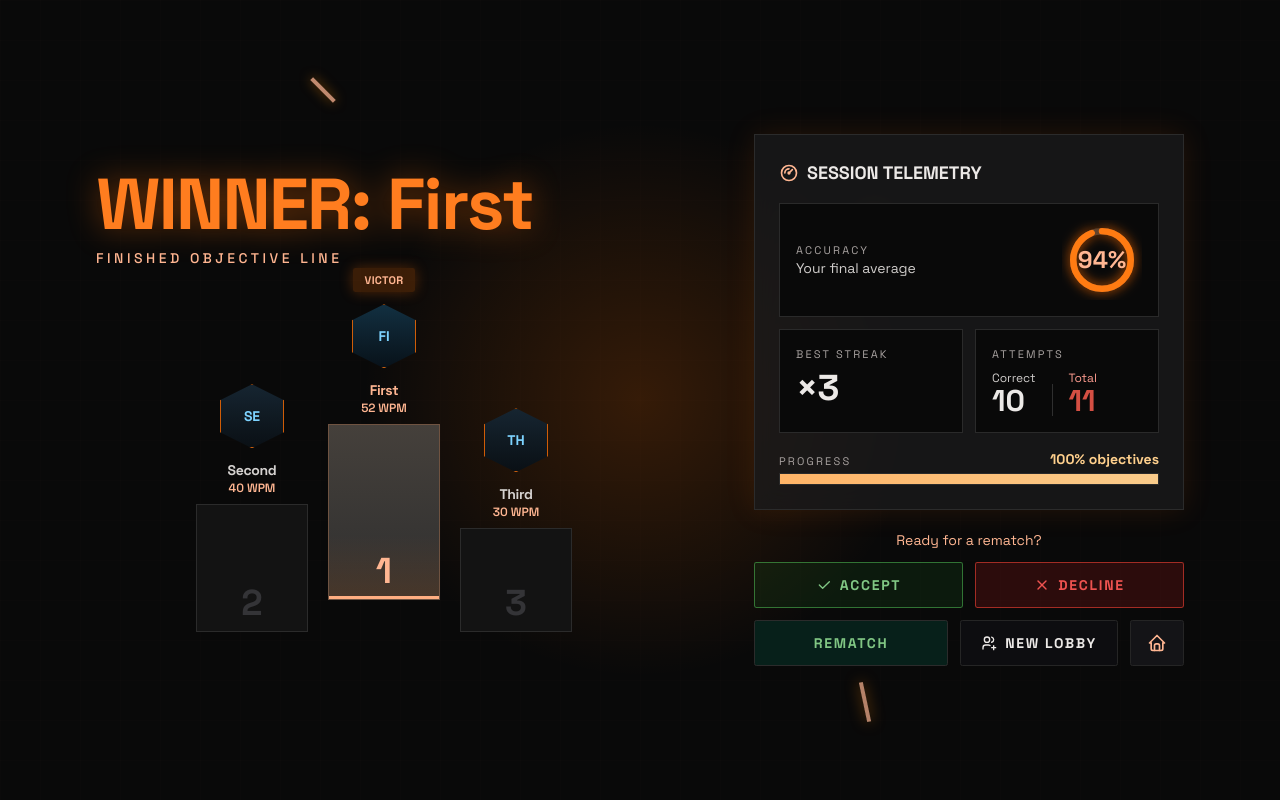
it: ResultsClient › shows rematch failure and allows new lobby path
Click the button "Accept" at {"x": 858, "y": 585}, box [754,562,963,608]
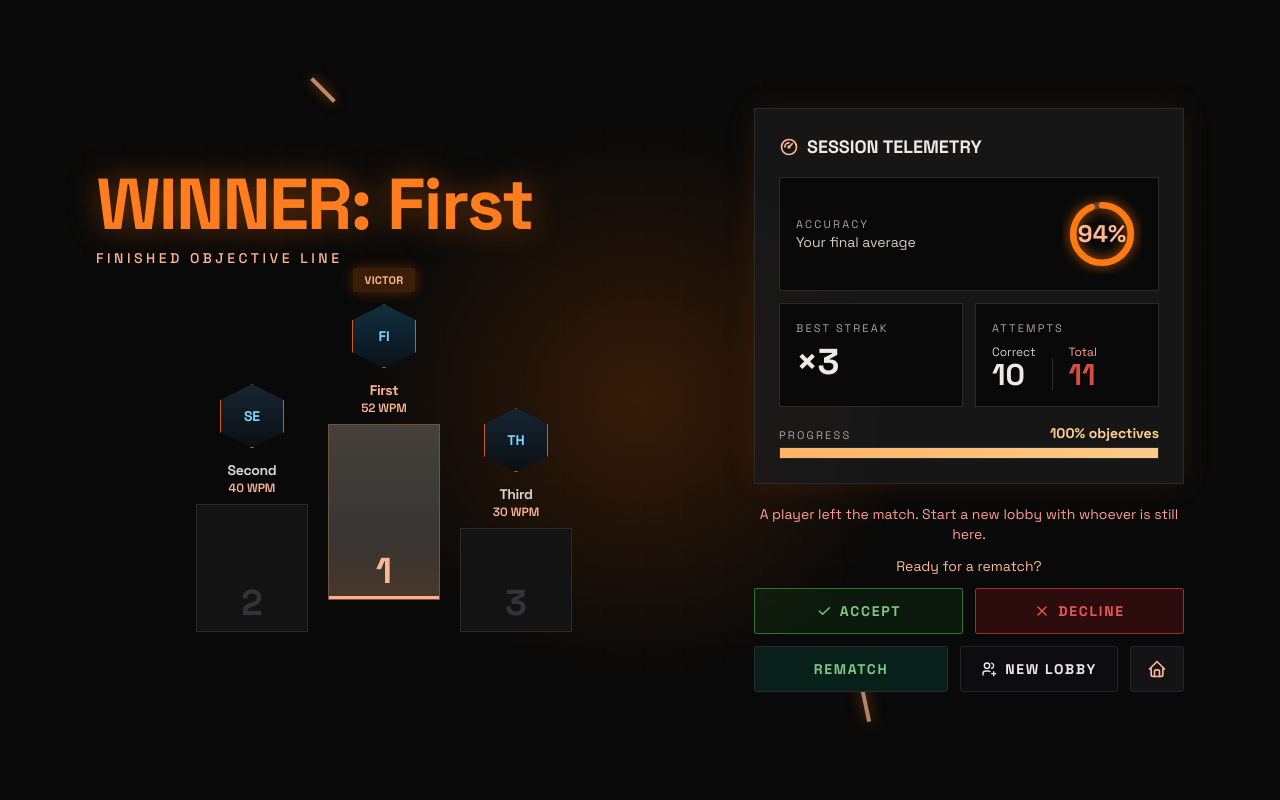
Expected: the text "A player left the match. Start a new lobby with whoever is still here." is shown, [754,504,1184,544]
